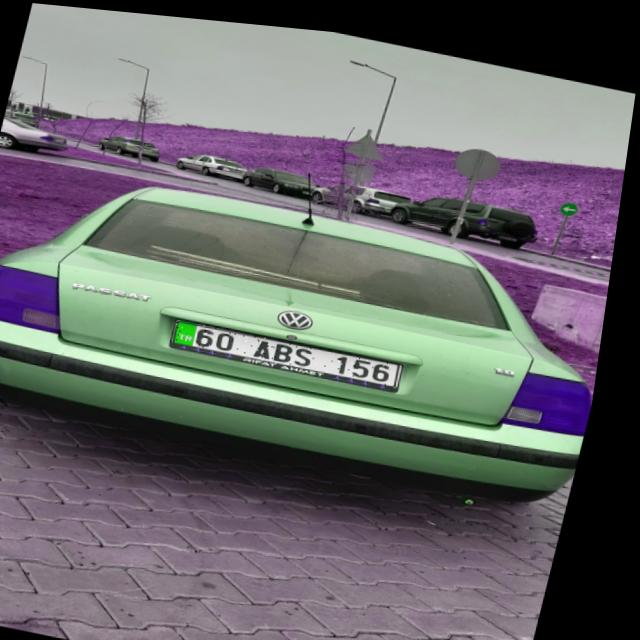license_plate: (177, 314, 413, 379)
